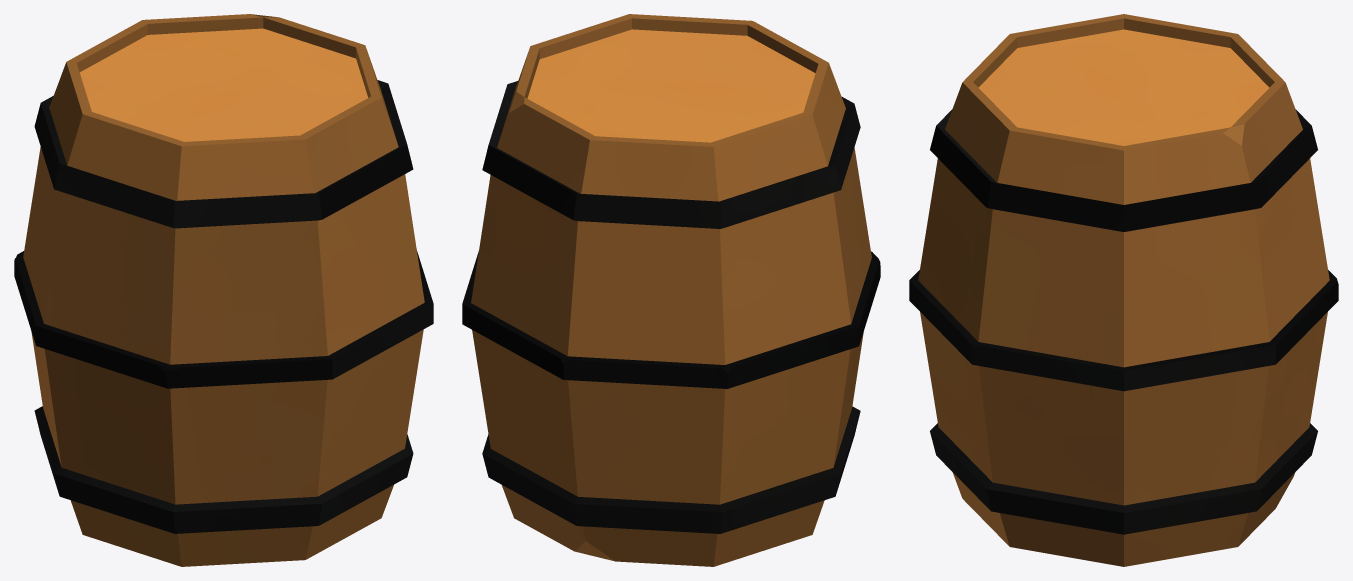
File: Barrel_2.fbx
3 renders of one model, left to right at view 1: azimuth 30°, elevation 25°; view 2: azimuth 150°, elevation 25°; view 3: azimuth 270°, elevation 25°, orthographic.
Visible parts, largest first — view 1: Barrel 2; view 2: Barrel 2; view 3: Barrel 2.
Boxes of the visible parts, left/top/right/bottom form: Barrel 2: left=14, top=14, right=433, bottom=566; Barrel 2: left=462, top=14, right=880, bottom=566; Barrel 2: left=909, top=14, right=1338, bottom=566.
Size of the model in its own units: 47.01 by 50.28 by 47.01.
